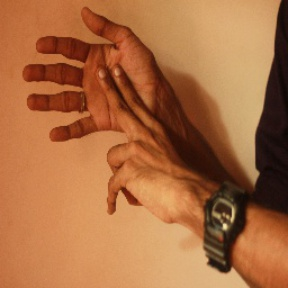N: (21, 5, 195, 221)
